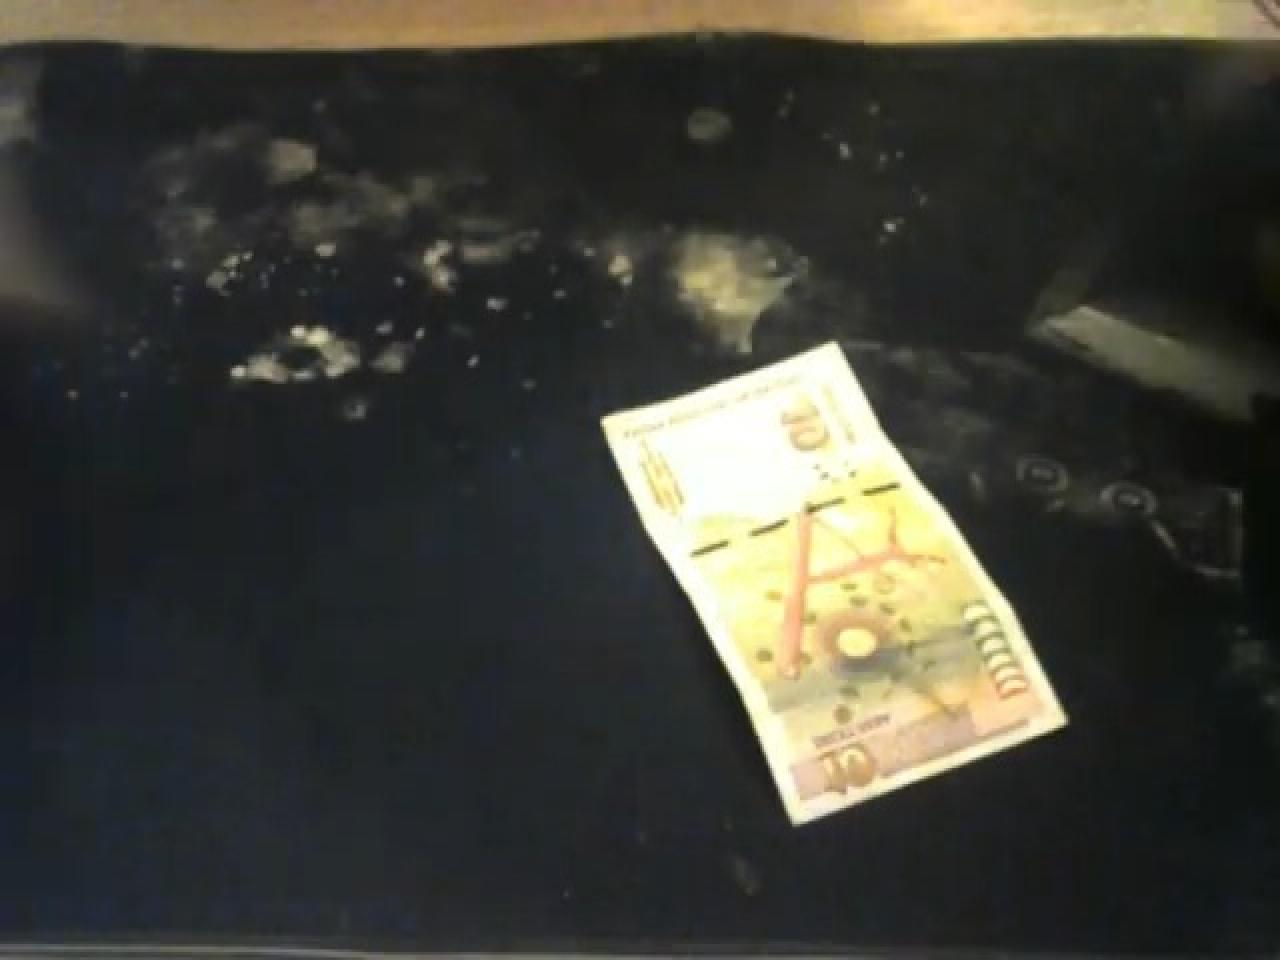10leva: (600, 347, 1070, 829)
